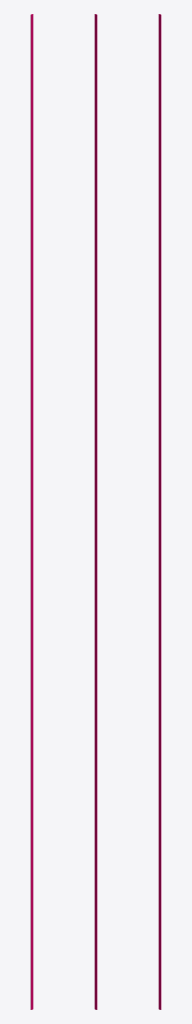
The model's file is String.fbx.
The picture shows the model from 3 angles, left to right: view 1: azimuth 30°, elevation 25°; view 2: azimuth 150°, elevation 25°; view 3: azimuth 330°, elevation 25°; orthographic projection.
Visible parts, largest first — view 1: String; view 2: String; view 3: String.
Part boxes in pixels (x1=…): String: x1=30, y1=14, x2=33, y2=1009; String: x1=94, y1=14, x2=97, y2=1009; String: x1=158, y1=14, x2=161, y2=1009.
Bounding box in the file's own units: 0.91 × 373 × 0.1309.
